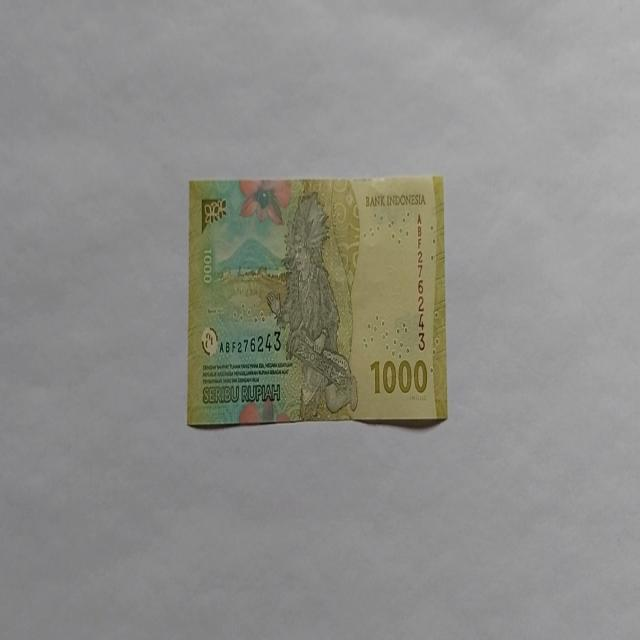seribu rupiah kertas: (186, 174, 448, 428)
